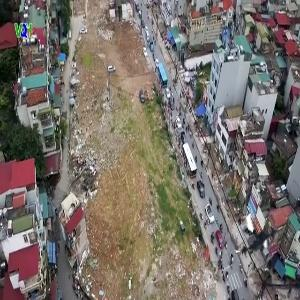drone: (230, 205, 288, 263)
